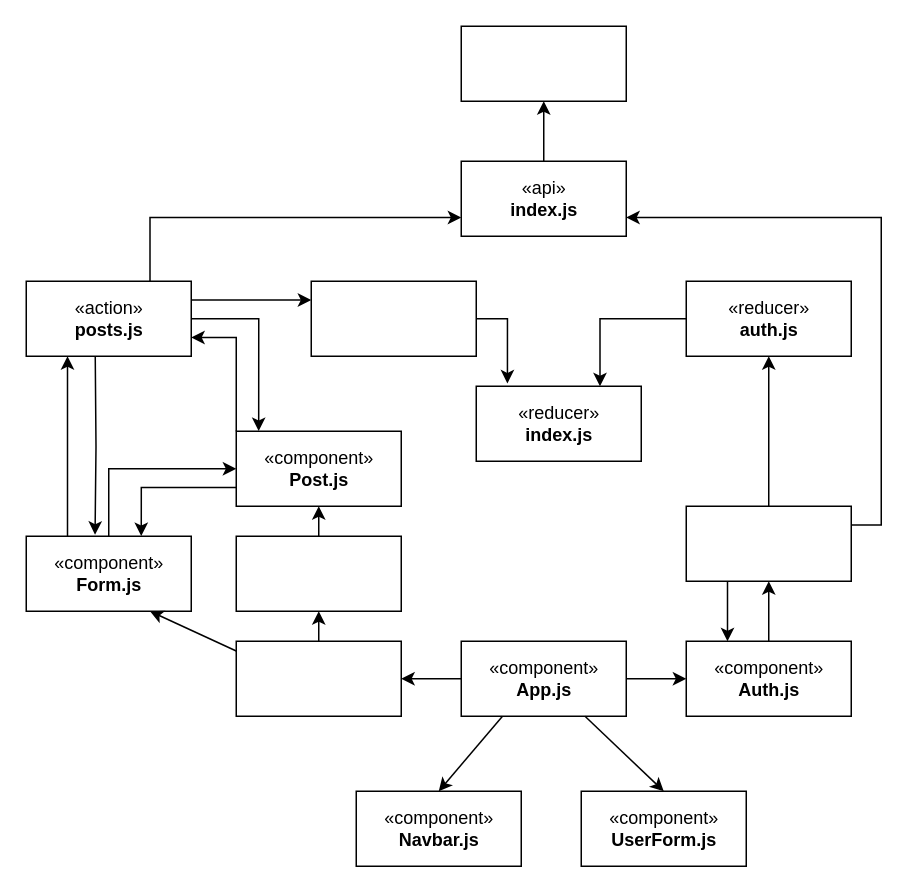
This 920x893 diagram has some shape labels left out. Each missing label, with the centre of its shape:
"BACKEND" goes at (x=543, y=63).
"«action» auth.js" goes at (x=768, y=543).
"«component» Home.js" goes at (x=318, y=678).
"«component» Posts.js" goes at (x=318, y=573).
"«reducer» posts.js" goes at (x=393, y=318).
